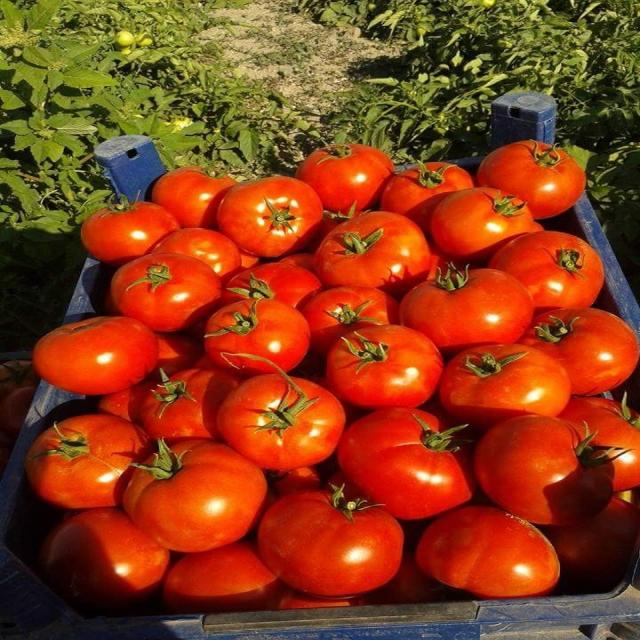tomato: (124, 440, 266, 552), (258, 489, 403, 597), (339, 408, 474, 519), (475, 416, 613, 524), (40, 508, 169, 611), (416, 506, 559, 598), (217, 374, 345, 469), (400, 264, 533, 353), (26, 414, 149, 509), (440, 344, 570, 427), (520, 308, 639, 395), (33, 317, 158, 395), (327, 325, 442, 408), (316, 212, 431, 294), (488, 232, 603, 312), (546, 498, 639, 593), (163, 542, 285, 613), (217, 176, 322, 257), (111, 254, 221, 331), (477, 140, 585, 218), (205, 299, 309, 375), (559, 396, 639, 491), (431, 188, 535, 259), (140, 369, 239, 443), (296, 144, 393, 211), (380, 162, 473, 231), (303, 286, 398, 353), (81, 202, 179, 265), (152, 167, 236, 227), (151, 228, 241, 281), (221, 262, 322, 307), (367, 553, 453, 603), (98, 379, 156, 425), (308, 205, 363, 250), (156, 333, 203, 375), (0, 386, 36, 437), (278, 591, 366, 609), (272, 467, 321, 496), (0, 360, 38, 397), (425, 243, 453, 280), (279, 253, 314, 273), (0, 432, 13, 476), (239, 248, 262, 269), (114, 31, 135, 49)
